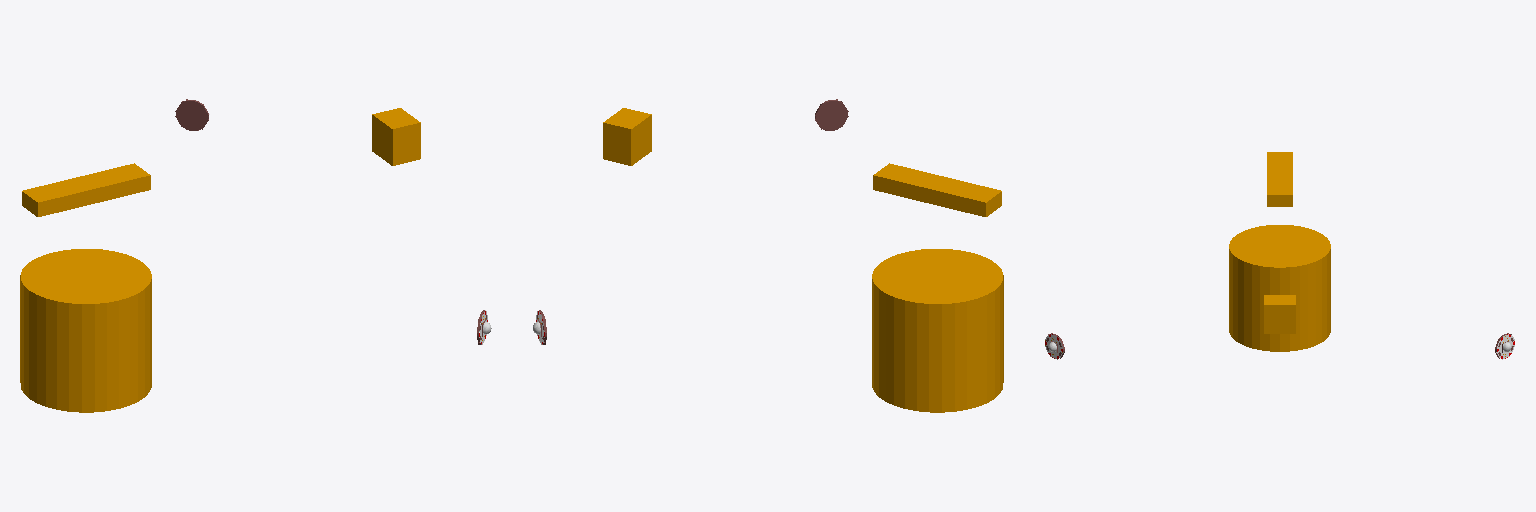
The robot description file, URDF, robot "GAGARIN":
<?xml version='1.0' encoding='utf-8'?>
<robot name='GAGARIN'>
  <link name='base_link'>
    <inertial>
      <origin xyz='0 0 0.01' rpy='0 -0 0'/>
      <mass value='2.316'/>
      <inertia ixx='0.017' ixy='0' ixz='0' iyy='0.018' iyz='0' izz='0.028'/>
    </inertial>
    <collision name='base_link_inertia_collision'>
      <origin xyz='0 0 0.02' rpy='0 -0 0'/>
      <geometry>
        <mesh filename='package://cerberus_gagarin_sensor_config_1/meshes/gagarin.stl' scale='1 1 1'/>
      </geometry>
    </collision>
    <visual name='base_link_inertia_visual'>
      <origin xyz='0 0 0.02' rpy='0 -0 0'/>
      <geometry>
        <mesh filename='package://cerberus_gagarin_sensor_config_1/meshes/gagarin.dae' scale='1 1 1'/>
      </geometry>
    </visual>
    <visual name='left_flashlight_led'>
      <origin xyz='0.17757 0.17757 0.227379' rpy='0 -0 2.35619'/>
      <geometry>
        <mesh filename='package://cerberus_gagarin_sensor_config_1/meshes/cree_xhp70.dae' scale='1 1 1'/>
      </geometry>
    </visual>
    <visual name='right_flashlight_led'>
      <origin xyz='0.17757 -0.17757 0.227379' rpy='0 -0 0.785398'/>
      <geometry>
        <mesh filename='package://cerberus_gagarin_sensor_config_1/meshes/cree_xhp70.dae' scale='1 1 1'/>
      </geometry>
    </visual>
    <visual name='camera_visual'>
      <origin xyz='0.22 0 0.274935' rpy='0 -0 0'/>
      <geometry>
        <box size='0.02 0.025 0.025'/>
      </geometry>
    </visual>
    <visual name='laser_visual'>
      <origin xyz='0 0 0.195' rpy='3.14159 -0 0'/>
      <geometry>
        <cylinder radius='0.04041' length='0.0735'/>
      </geometry>
    </visual>
    <visual name='picoflexx_visual'>
      <origin xyz='0 0 0.29' rpy='3.14159 -1.57079 3.14159'/>
      <geometry>
        <box size='0.01 0.02 0.08'/>
      </geometry>
    </visual>
  </link>
  <sensor name='imu_sensor' update_rate='200'>
    <parent link='base_link'/>
    <origin xyz='0 0 0' rpy='0 -0 0'/>
  </sensor>
  <sensor name='magnetometer' update_rate='20'>
    <parent link='base_link'/>
    <origin xyz='0 0 0' rpy='0 -0 0'/>
  </sensor>
  <sensor name='camera_front' update_rate='20'>
    <parent link='base_link'/>
    <origin xyz='0.23 0 0.264935' rpy='0 -0 0'/>
    <camera>
      <image width='1440' height='1080' format='R8G8B8' hfov='2.0944' near='0.02' far='100' />
    </camera>
  </sensor>
  <sensor name='front_laser' update_rate='10'>
    <parent link='base_link'/>
    <origin xyz='0 0 0.185' rpy='3.14159 -0 0'/>
  </sensor>
  <sensor name='picoflexx' update_rate='5'>
    <parent link='base_link'/>
    <origin xyz='0 0 0.28' rpy='3.14159 -1.57079 3.14159'/>
  </sensor>
  <link name='rotor_0'>
    <inertial>
      <origin xyz='0 0 0' rpy='0 -0 0'/>
      <mass value='0.005'/>
      <inertia ixx='9.75e-07' ixy='0' ixz='0' iyy='8.13545e-05' iyz='0' izz='8.22545e-05'/>
    </inertial>
    <visual name='rotor_0_visual'>
      <origin xyz='0 0 0' rpy='0 -0 0'/>
      <geometry>
        <mesh filename='package://cerberus_gagarin_sensor_config_1/meshes/propeller_ccw.dae' scale='0.06 0.06 0.06'/>
      </geometry>
    </visual>
  </link>
  <link name='rotor_1'>
    <inertial>
      <origin xyz='0 0 0' rpy='0 -0 0'/>
      <mass value='0.005'/>
      <inertia ixx='9.75e-07' ixy='0' ixz='0' iyy='8.13545e-05' iyz='0' izz='8.22545e-05'/>
    </inertial>
    <visual name='rotor_1_visual'>
      <origin xyz='0 0 0' rpy='0 -0 0'/>
      <geometry>
        <mesh filename='package://cerberus_gagarin_sensor_config_1/meshes/propeller_ccw.dae' scale='0.06 0.06 0.06'/>
      </geometry>
    </visual>
  </link>
  <link name='rotor_2'>
    <inertial>
      <origin xyz='0 0 0' rpy='0 -0 0'/>
      <mass value='0.005'/>
      <inertia ixx='9.75e-07' ixy='0' ixz='0' iyy='8.13545e-05' iyz='0' izz='8.22545e-05'/>
    </inertial>
    <visual name='rotor_2_visual'>
      <origin xyz='0 0 0' rpy='0 -0 0'/>
      <geometry>
        <mesh filename='package://cerberus_gagarin_sensor_config_1/meshes/propeller_cw.dae' scale='0.06 0.06 0.06'/>
      </geometry>
    </visual>
  </link>
  <link name='rotor_3'>
    <inertial>
      <origin xyz='0 0 0' rpy='0 -0 0'/>
      <mass value='0.005'/>
      <inertia ixx='9.75e-07' ixy='0' ixz='0' iyy='8.13545e-05' iyz='0' izz='8.22545e-05'/>
    </inertial>
    <visual name='rotor_3_visual'>
      <origin xyz='0 0 0' rpy='0 -0 0'/>
      <geometry>
        <mesh filename='package://cerberus_gagarin_sensor_config_1/meshes/propeller_cw.dae' scale='0.06 0.06 0.06'/>
      </geometry>
    </visual>
  </link>
  <joint name='rotor_0_joint' type='revolute'>
    <origin xyz='0.1 -0.1 0.21' rpy='0 -0 0'/>
    <parent link='base_link'/>
    <child link='rotor_0'/>
    <dynamics damping='0' friction='0' />
    <axis xyz='0 0 1'/>
    <limit lower='-1e+16' upper='1e+16' effort='0' velocity='0'/>
  </joint>
  <joint name='rotor_1_joint' type='revolute'>
    <origin xyz='-0.1 0.1 0.21' rpy='0 -0 0'/>
    <parent link='base_link'/>
    <child link='rotor_1'/>
    <dynamics damping='0' friction='0' />
    <axis xyz='0 0 1'/>
    <limit lower='-1e+16' upper='1e+16' effort='0' velocity='0'/>
  </joint>
  <joint name='rotor_2_joint' type='revolute'>
    <origin xyz='0.1 0.1 0.21' rpy='0 -0 0'/>
    <parent link='base_link'/>
    <child link='rotor_2'/>
    <dynamics damping='0' friction='0' />
    <axis xyz='0 0 1'/>
    <limit lower='-1e+16' upper='1e+16' effort='0' velocity='0'/>
  </joint>
  <joint name='rotor_3_joint' type='revolute'>
    <origin xyz='-0.1 -0.1 0.21' rpy='0 -0 0'/>
    <parent link='base_link'/>
    <child link='rotor_3'/>
    <dynamics damping='0' friction='0' />
    <axis xyz='0 0 1'/>
    <limit lower='-1e+16' upper='1e+16' effort='0' velocity='0'/>
  </joint>
</robot>

--- Facts derived from the render (not from the file) ---
Views: 3 orthographic renders of the robot side by side, from view 1: azimuth 30°, elevation 25°; view 2: azimuth 150°, elevation 25°; view 3: azimuth 270°, elevation 25°.
Model GAGARIN with 5 links and 4 joints (4 revolute), rooted at base_link, posed every joint at zero.
Links seen in each view (by area): view 1: base_link; view 2: base_link; view 3: base_link.
Boxes of the visible links, x1,y1,x2,y2 form: base_link: [20, 99, 491, 412]; base_link: [533, 99, 1003, 412]; base_link: [1045, 152, 1514, 359].
Bounding box of the posed robot: 0.2704 × 0.3726 × 0.1368 m (x, y, z).
Meshes: 4 distinct files referenced, 2 mesh visuals loaded (1 Collada DAE); not drawn: 5 (reference not matched to a file when rendering).
